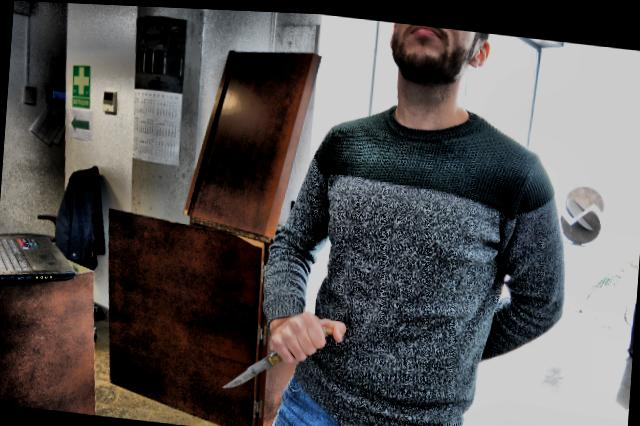knife: (218, 309, 335, 403)
